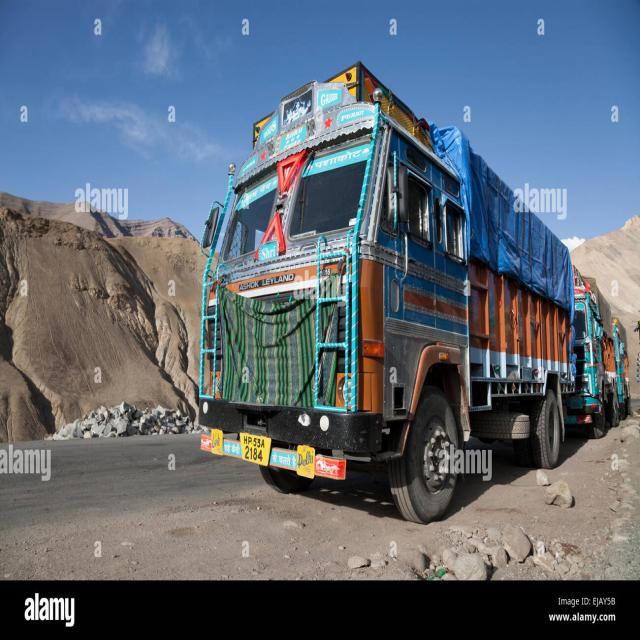Truck: (199, 67, 573, 517)
